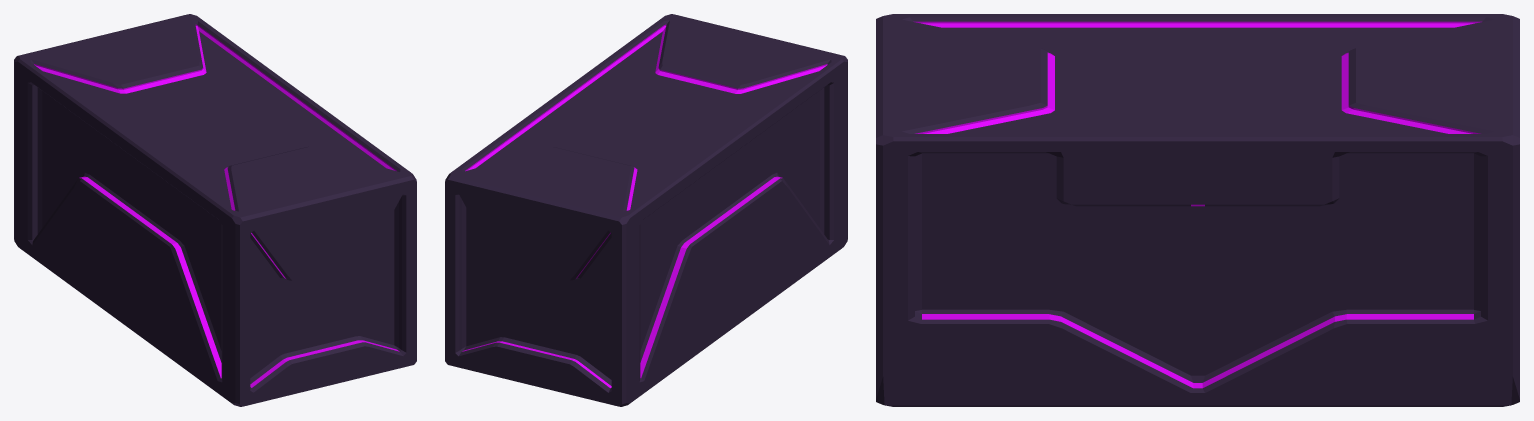
File: box2 Cyberpunk.fbx
3 views of the same model, side by side, from view 1: azimuth 30°, elevation 25°; view 2: azimuth 150°, elevation 25°; view 3: azimuth 270°, elevation 25° (orthographic). The views are drawn at different scales.
Visible parts, largest first — view 1: Cube; view 2: Cube; view 3: Cube.
Part boxes in pixels (left/top/right/bottom): Cube: left=14, top=14, right=416, bottom=406; Cube: left=445, top=14, right=847, bottom=406; Cube: left=876, top=14, right=1519, bottom=406.
Size of the model in its own units: 200 by 200 by 432.
